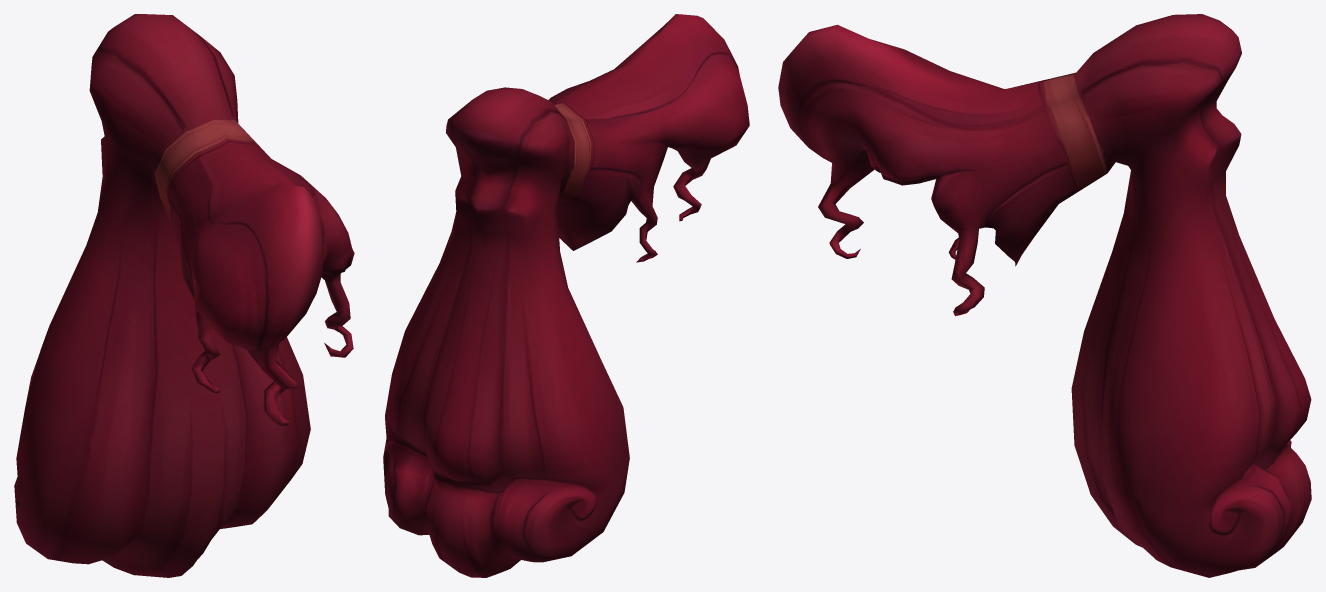
File: hairExample.glb
3 renders of one model, left to right at view 1: azimuth 30°, elevation 25°; view 2: azimuth 150°, elevation 25°; view 3: azimuth 270°, elevation 25°, orthographic. The views are drawn at different scales.
Parts seen in each view (by area): view 1: Object_2; view 2: Object_2; view 3: Object_2.
Boxes of the visible parts, x1,y1,x2,y2 form: Object_2: (14,14,354,577); Object_2: (383,14,749,577); Object_2: (778,14,1311,577).
Bounding box in the file's own units: 0.0669 × 0.1347 × 0.1196.
Materials: 1 (1 with a texture image).
